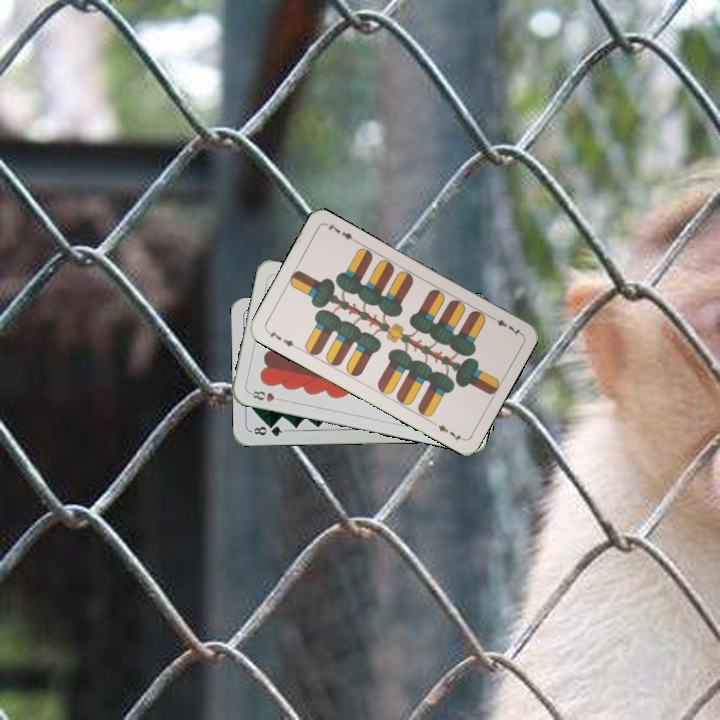E7: (486, 312, 523, 339), (263, 326, 300, 351)
G8: (248, 421, 288, 439)
H8: (246, 387, 286, 404)
